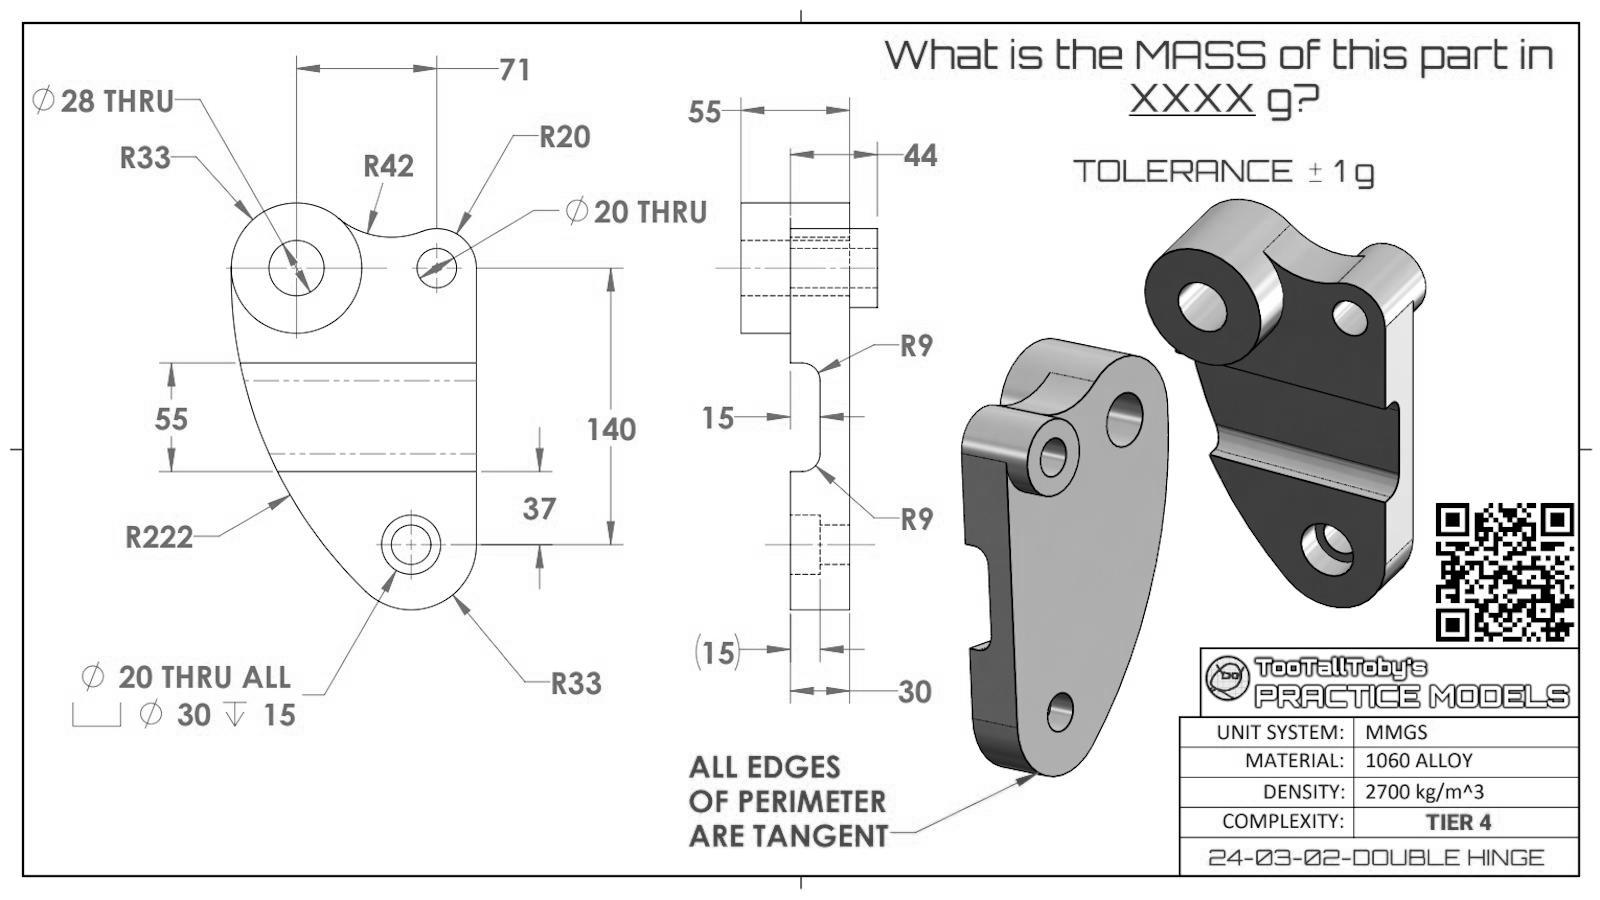-: (1309, 163, 1323, 184)
0: (574, 123, 592, 149), (619, 416, 637, 442), (195, 701, 211, 729), (135, 664, 153, 689), (915, 678, 932, 704), (613, 199, 629, 226), (1399, 781, 1410, 801), (1388, 784, 1398, 801)
1: (699, 404, 714, 432), (518, 57, 532, 84), (263, 701, 277, 727), (587, 413, 599, 443), (702, 641, 714, 665), (1334, 158, 1344, 184)
1060AlumAlloy: (1365, 753, 1474, 768)
2: (397, 153, 415, 179), (60, 87, 78, 114), (176, 523, 193, 551), (592, 199, 611, 224), (118, 663, 135, 689), (556, 124, 574, 148), (143, 524, 159, 549), (159, 524, 176, 548), (1365, 782, 1376, 801)
3: (136, 143, 155, 171), (154, 145, 171, 170), (585, 670, 602, 696), (569, 669, 585, 697), (177, 703, 193, 729), (524, 496, 541, 521), (898, 679, 914, 704)
4: (602, 414, 619, 444), (379, 153, 397, 179), (921, 143, 940, 166), (904, 143, 922, 167)
5: (277, 701, 298, 727), (704, 98, 723, 126), (687, 98, 704, 126), (716, 640, 735, 666), (170, 405, 188, 433), (154, 407, 173, 432), (716, 404, 734, 431)
7: (499, 56, 516, 84), (540, 496, 558, 521), (1376, 782, 1388, 801)
8: (79, 87, 95, 115)
9: (916, 332, 935, 358), (918, 505, 935, 532)
All: (241, 664, 293, 690)
Density: (1260, 782, 1347, 802)
Depth: (221, 699, 247, 727)
Diameter: (31, 80, 56, 119), (565, 191, 589, 227), (79, 659, 107, 691), (138, 698, 164, 729)
MMGS: (1365, 723, 1430, 742)
Material: (1244, 751, 1345, 770)
Radius: (363, 149, 380, 179), (899, 332, 918, 359), (124, 523, 142, 551), (538, 122, 555, 151), (552, 669, 568, 697), (120, 144, 136, 169), (901, 505, 916, 532)
Thru: (102, 87, 175, 115), (636, 197, 709, 224), (160, 665, 233, 691)
UnitSystem: (1214, 723, 1345, 742)
X: (1127, 80, 1162, 113), (1191, 80, 1223, 113), (1160, 81, 1191, 114), (1224, 82, 1255, 113)
grams: (1267, 87, 1292, 121), (1355, 163, 1376, 190)
